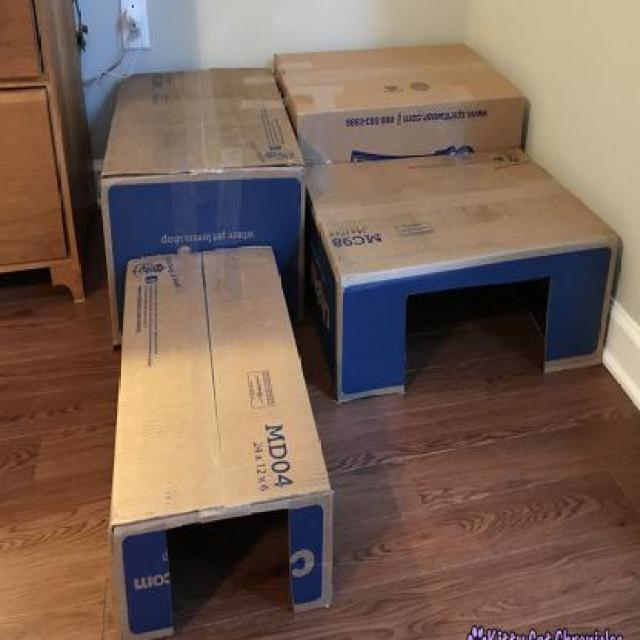box: (91, 236, 351, 640), (288, 150, 640, 411), (102, 66, 306, 340), (270, 33, 542, 160)
